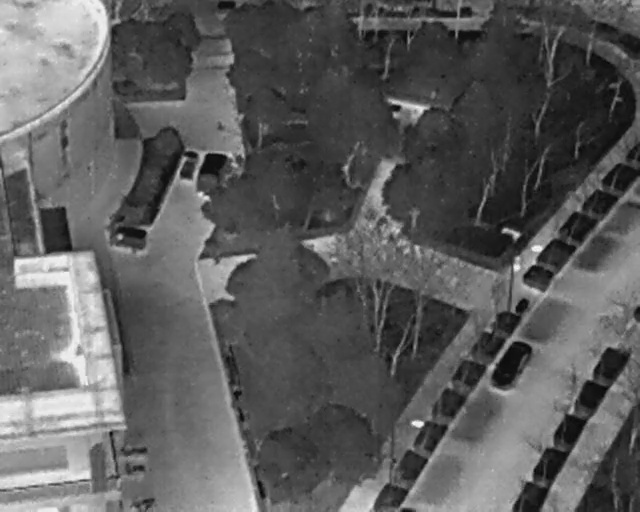Bicycle: (117, 442, 148, 458), (121, 458, 148, 476), (127, 496, 156, 510)
Car: (483, 333, 539, 399)
DontCare: (176, 147, 201, 183)
OtherVehicle: (193, 147, 233, 197), (106, 221, 148, 253)
Person: (511, 255, 521, 273)
